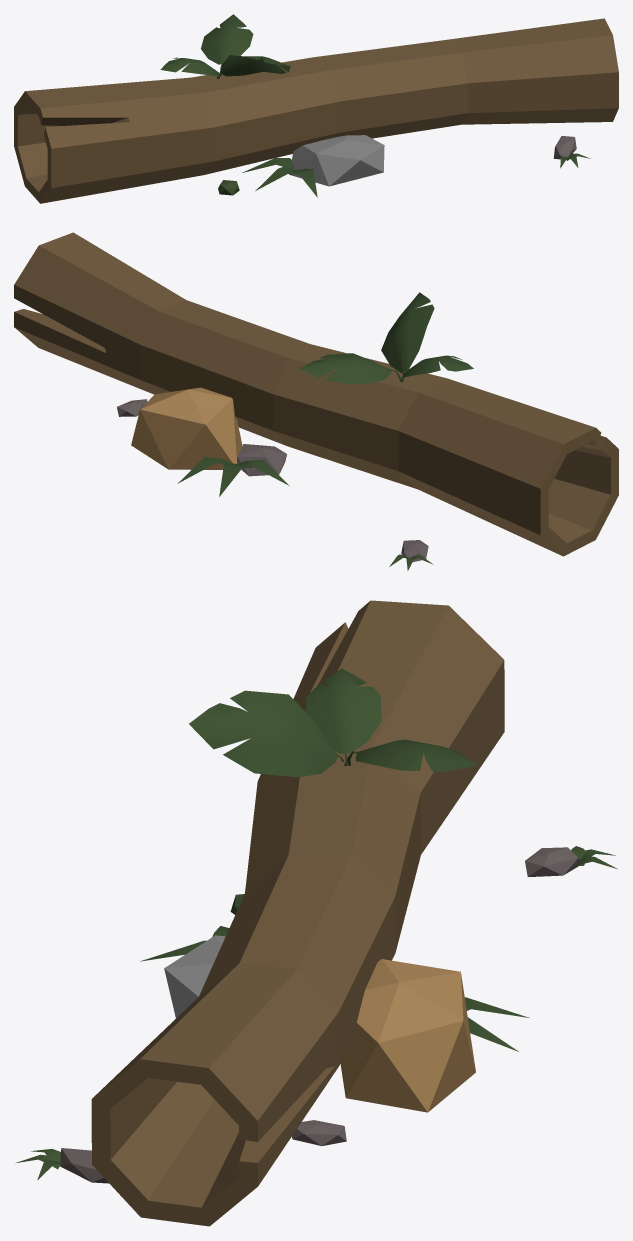
The model's file is log.glb.
3 renders of one model, top to bottom at view 1: azimuth 30°, elevation 25°; view 2: azimuth 150°, elevation 25°; view 3: azimuth 270°, elevation 25°, orthographic. The views are drawn at different scales.
Visible parts, largest first — view 1: log 1; view 2: log 1; view 3: log 1.
Boxes of the visible parts, x1=… form: log 1: x1=14, y1=14, x2=618, y2=203; log 1: x1=14, y1=232, x2=618, y2=570; log 1: x1=15, y1=600, x2=617, y2=1226.
Size of the model in its own units: 1.77 by 0.4166 by 0.9623.
